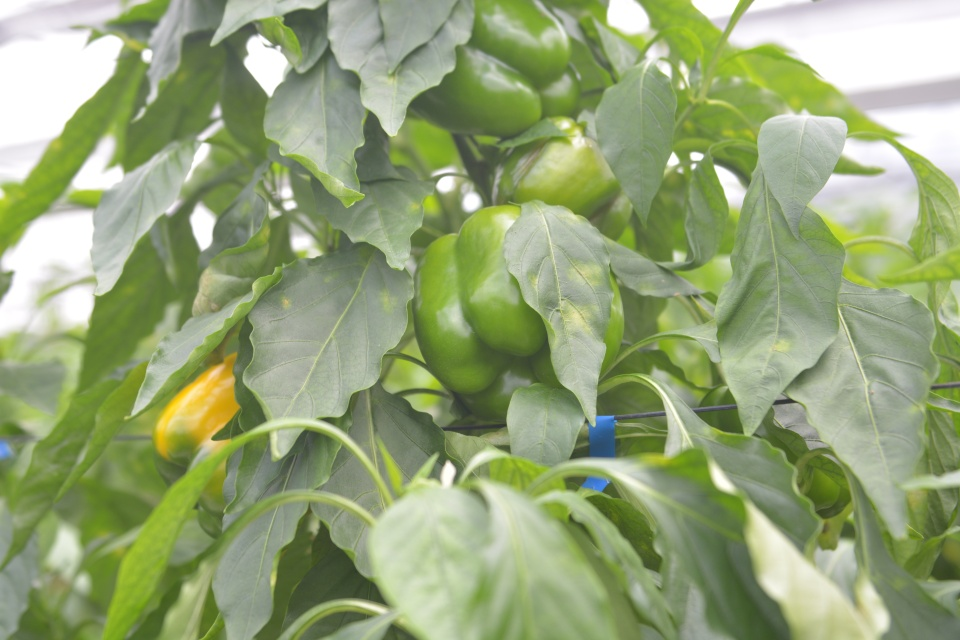fruit: (410, 200, 629, 427), (406, 0, 584, 141), (486, 112, 633, 244), (153, 348, 244, 540), (803, 466, 852, 520)
